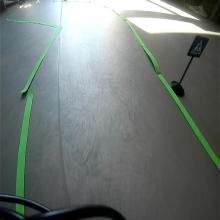crosswalk: (187, 35, 209, 58)
